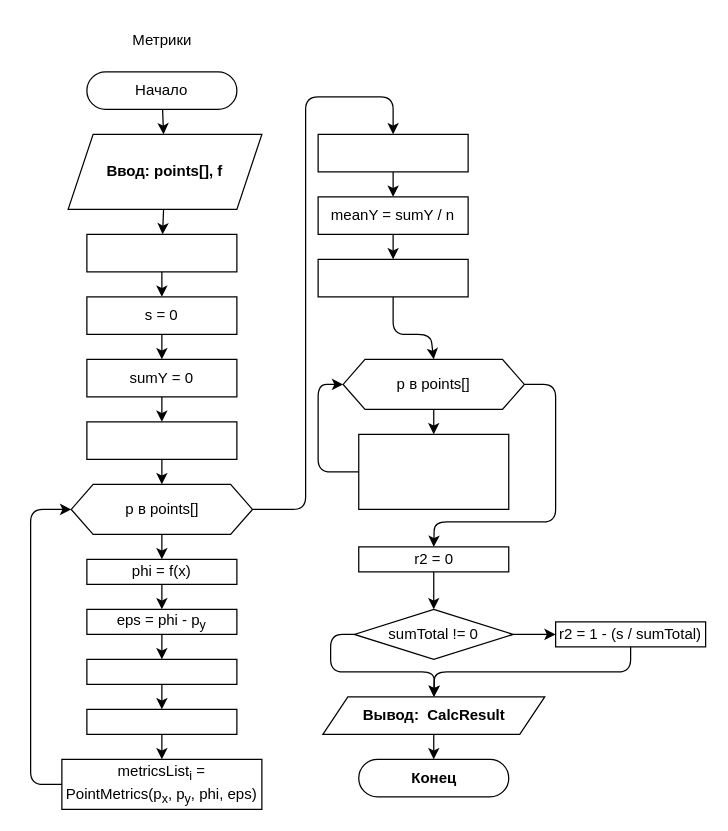
The diagram is 728 pixels wide and 831 high, and some of its shapes have lost their labels. Here are the shapes that lost their labels. From the top down, the box of each, then its label:
(317, 133, 468, 172): rms = sqrt(s / n)
(86, 233, 237, 272): n = points.size()
(317, 258, 468, 297): sumTotal = 0
(86, 421, 237, 459): metricsList[n]
(358, 433, 509, 509): sumTotal += pow(p y - meanY, 2)
(86, 658, 237, 684): s += eps * eps
(86, 708, 237, 734): sumY += p y
